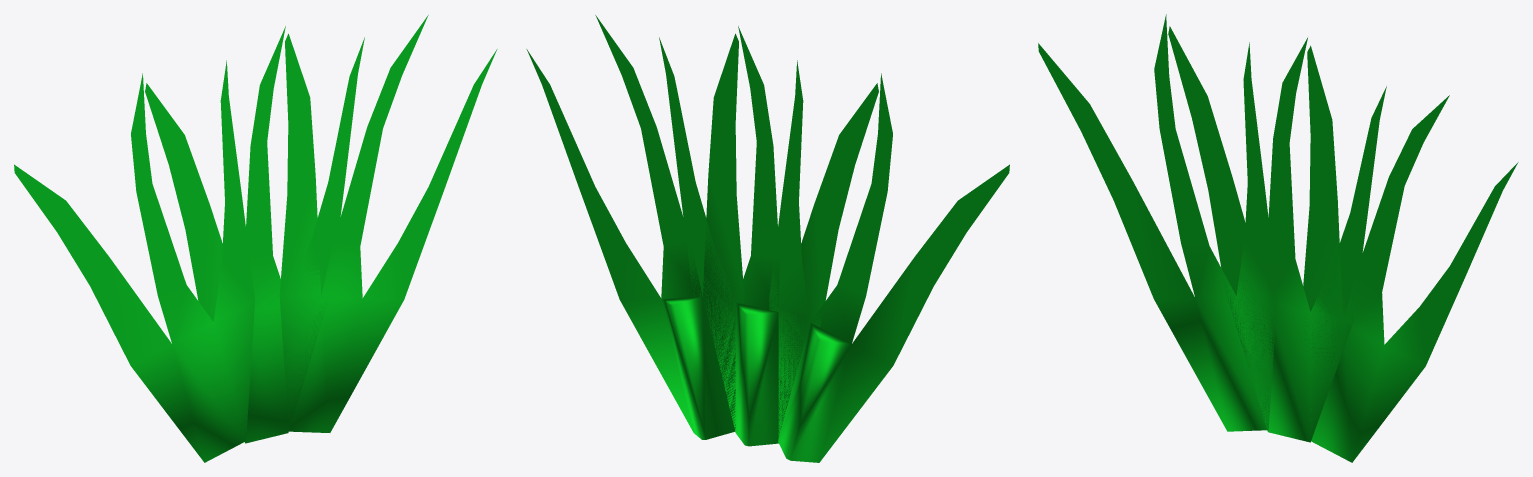
The model's file is singlegrassa.fbx.
The picture shows the model from 3 angles, left to right: view 1: azimuth 30°, elevation 25°; view 2: azimuth 150°, elevation 25°; view 3: azimuth 330°, elevation 25°; orthographic projection.
Visible parts, largest first — view 1: single_grassa; view 2: single_grassa; view 3: single_grassa.
Part boxes in pixels (x1=…): single_grassa: x1=14, y1=15, x2=497, y2=462; single_grassa: x1=526, y1=15, x2=1009, y2=462; single_grassa: x1=1038, y1=14, x2=1518, y2=462.
Size of the model in its own units: 1.86 by 1.54 by 0.0687.
